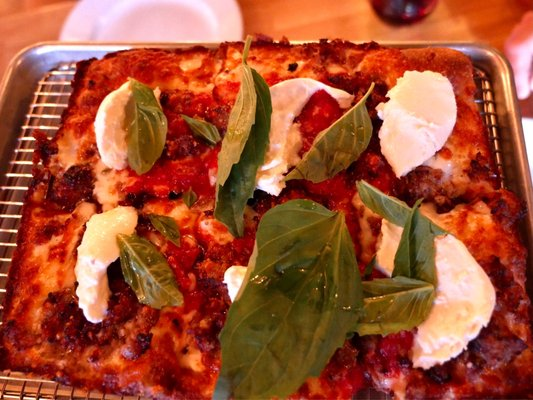pizza: (371, 0, 440, 24)
